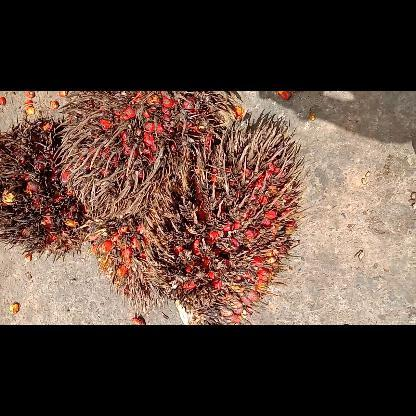Terlalu masak: (142, 106, 308, 324), (53, 90, 243, 224), (0, 110, 95, 267), (81, 209, 185, 316)
